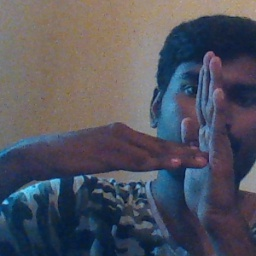Z: (117, 47, 239, 226)
